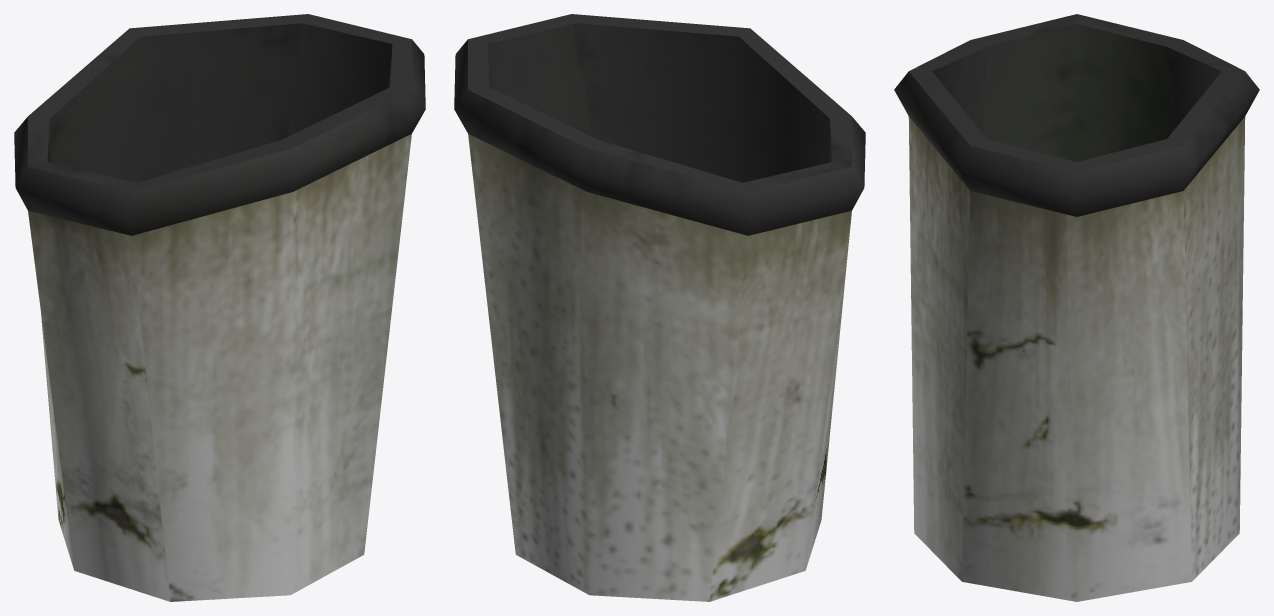
File: bin_empty_01.fbx
The picture shows the model from 3 angles, left to right: view 1: azimuth 30°, elevation 25°; view 2: azimuth 150°, elevation 25°; view 3: azimuth 270°, elevation 25°; orthographic projection. The views are drawn at different scales.
Parts seen in each view (by area): view 1: bin_empty_01; view 2: bin_empty_01; view 3: bin_empty_01.
Boxes of the visible parts, x1,y1,x2,y2 form: bin_empty_01: (14, 14, 425, 601); bin_empty_01: (454, 14, 865, 601); bin_empty_01: (894, 14, 1259, 601).
Size of the model in its own units: 0.2776 by 0.2913 by 0.2091.
